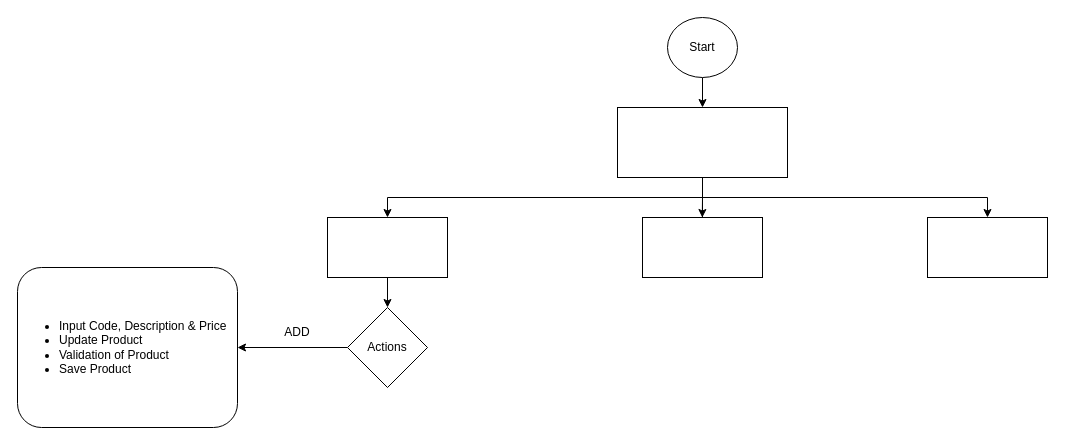
Image size: 1065x445. Some labels were removed from this diagram. The shapes that lost their labels are listed below. From the top down, each one's centre as x and y in pixels, then its label:
At pixel 702 142: "Index Page (Main Navigation Page)".
At pixel 387 247: "Products Page".
